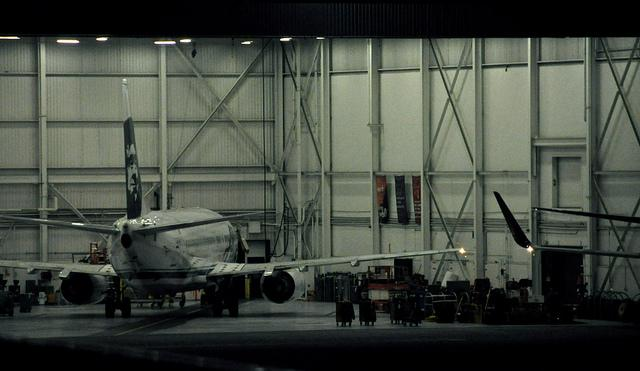airplane: (1, 76, 467, 321)
